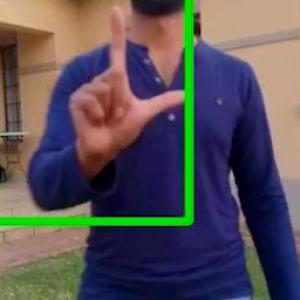land_hand: (68, 0, 196, 170)
